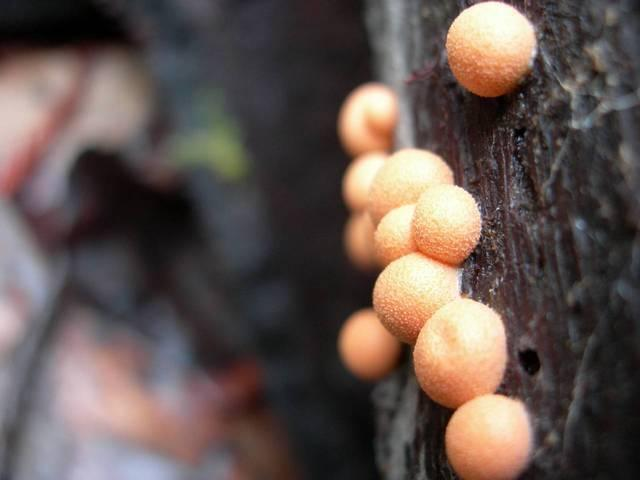poisonous_mushroom: (336, 81, 536, 478), (411, 296, 508, 408), (443, 0, 538, 98), (371, 251, 463, 344), (443, 392, 533, 479), (366, 146, 454, 227), (411, 182, 483, 265), (337, 307, 401, 380)
